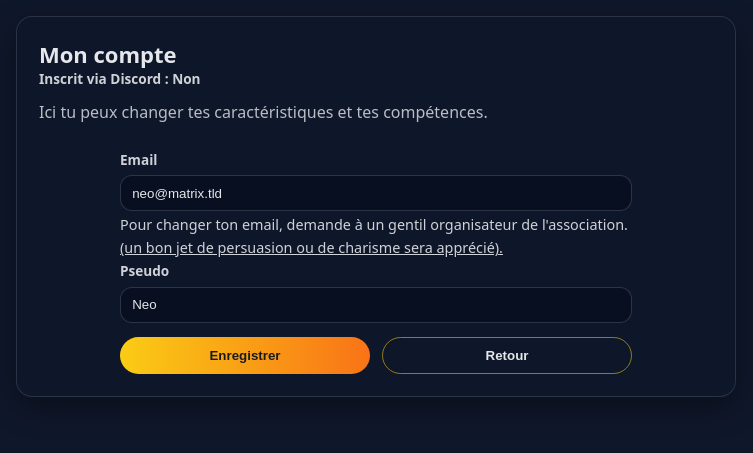
Test case: AccountView › shows the save error when the update fails
Expected: the field showing "Neo" below "Pseudo" is shown, [120,287,632,323]
What coordinates should you click on to do the following:
click the button "Enregistrer"
I would click on:
 (245, 355)
Its box is [120,337,370,374].
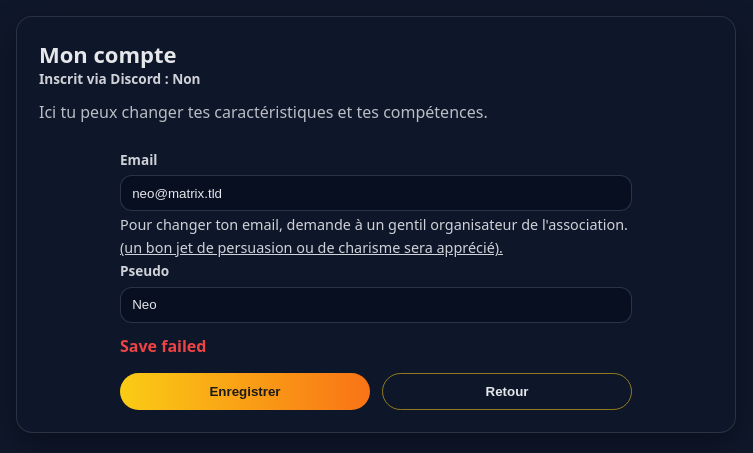
Expected: the text "Save failed" is shown, [120,335,206,357]
